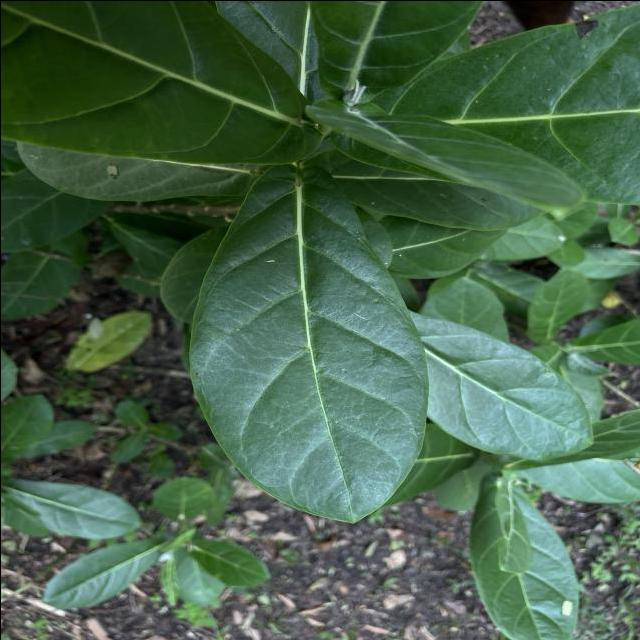Calotropis gigantea: (184, 164, 430, 525), (403, 308, 601, 460), (462, 474, 584, 640), (42, 536, 165, 610), (3, 478, 145, 536)
